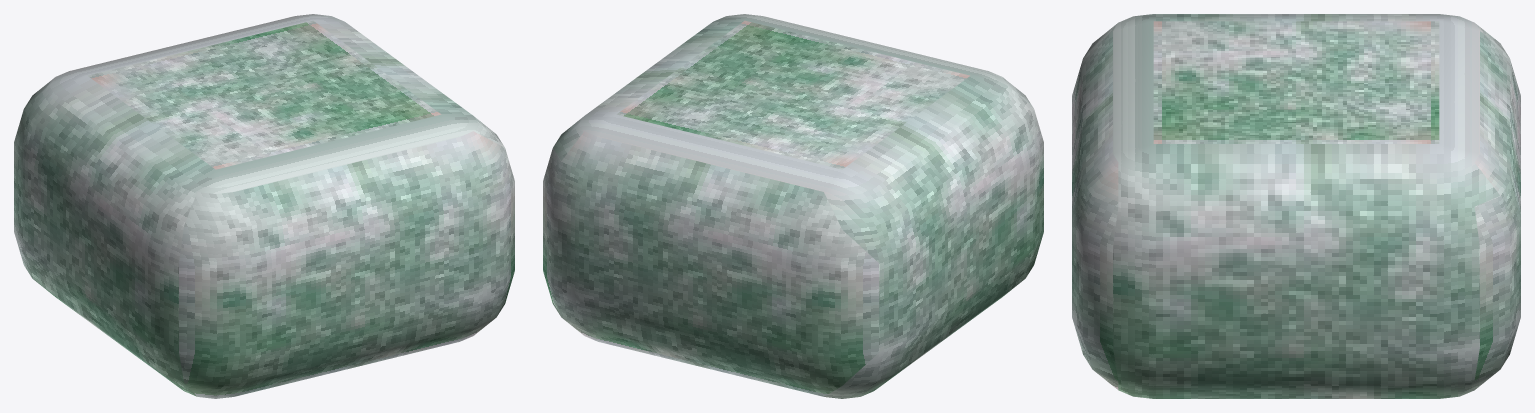
Rendered from lolly.glb.
3 renders of one model, left to right at view 1: azimuth 30°, elevation 25°; view 2: azimuth 150°, elevation 25°; view 3: azimuth 270°, elevation 25°, orthographic. The views are drawn at different scales.
Parts seen in each view (by area): view 1: lolly.ms3d.mo; view 2: lolly.ms3d.mo; view 3: lolly.ms3d.mo.
Part boxes in pixels (x1=…): lolly.ms3d.mo: x1=14, y1=14, x2=514, y2=398; lolly.ms3d.mo: x1=543, y1=14, x2=1043, y2=398; lolly.ms3d.mo: x1=1072, y1=14, x2=1520, y2=398.
Bounding box in the file's own units: 20.96 × 12.64 × 20.75.
1 material, 1 textured.
